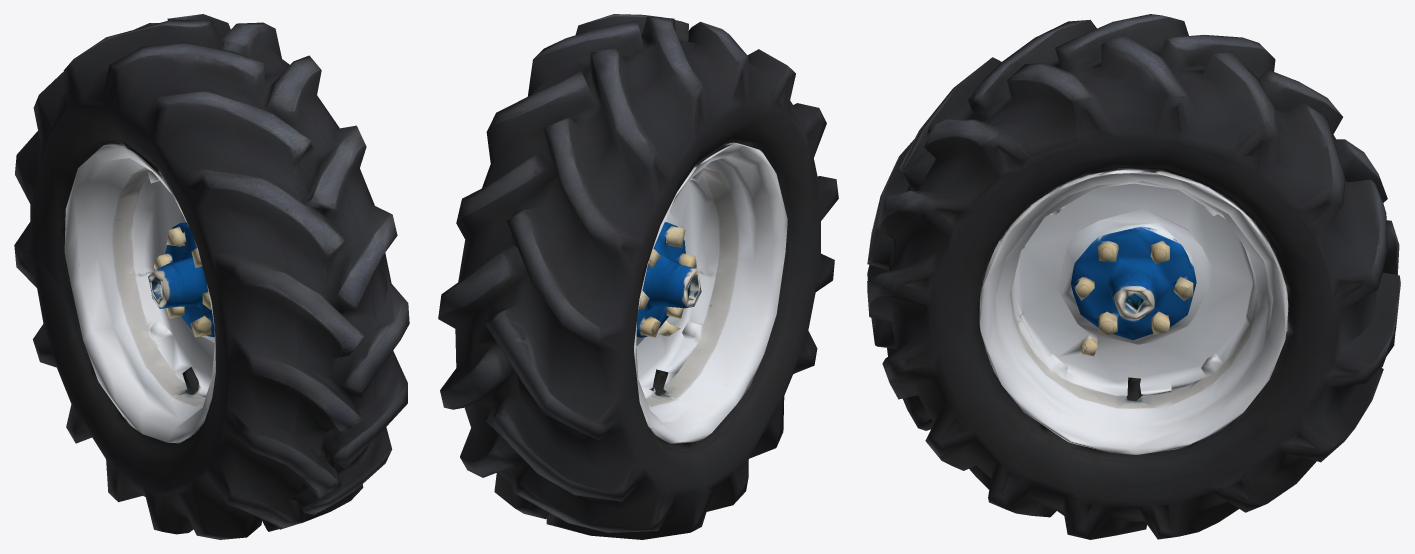
File: patpat_kafa_teker.glb
The picture shows the model from 3 angles, left to right: view 1: azimuth 30°, elevation 25°; view 2: azimuth 150°, elevation 25°; view 3: azimuth 270°, elevation 25°; orthographic projection.
Parts seen in each view (by area): view 1: tripo_node_86857566-ffc8-4568-b3ad-d02db14aa911; view 2: tripo_node_86857566-ffc8-4568-b3ad-d02db14aa911; view 3: tripo_node_86857566-ffc8-4568-b3ad-d02db14aa911.
Boxes of the visible parts, <box> form: tripo_node_86857566-ffc8-4568-b3ad-d02db14aa911: <box>14,14,409,539</box>; tripo_node_86857566-ffc8-4568-b3ad-d02db14aa911: <box>438,14,838,539</box>; tripo_node_86857566-ffc8-4568-b3ad-d02db14aa911: <box>867,14,1400,539</box>.
Size of the model in its own units: 0.3552 by 0.9778 by 0.9753.
Materials: 1 (1 with a texture image).
